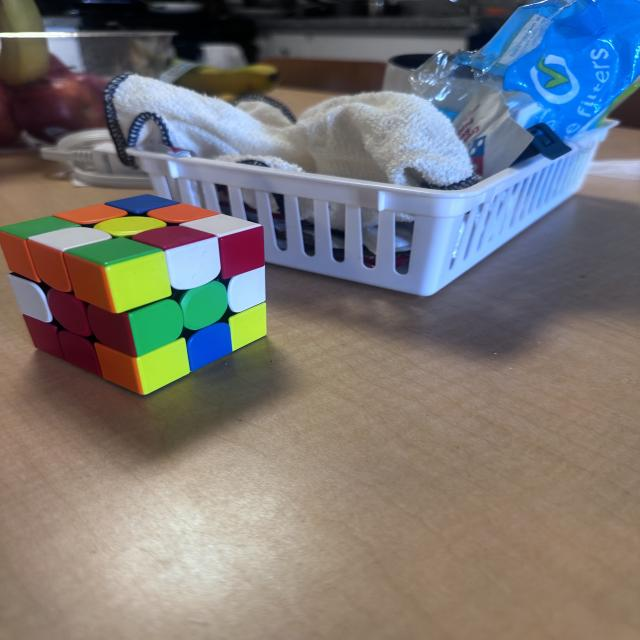sticker: (64, 234, 174, 314), (88, 296, 186, 357), (26, 226, 113, 293), (95, 338, 194, 395), (132, 226, 220, 290), (0, 216, 80, 286), (176, 212, 263, 276), (216, 223, 266, 280), (27, 238, 76, 294), (177, 279, 229, 331), (85, 302, 136, 354), (46, 288, 94, 338), (93, 343, 141, 393), (6, 273, 53, 324), (186, 324, 233, 372), (0, 230, 40, 286), (57, 329, 103, 376), (134, 224, 214, 250), (228, 302, 268, 351), (226, 266, 266, 314), (22, 316, 64, 359), (93, 216, 169, 238), (146, 202, 218, 225), (53, 204, 128, 226), (105, 194, 179, 216)
